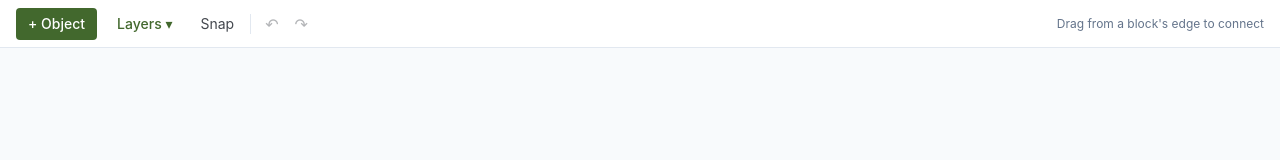
ArchitectureCanvas › layers popover › stays open when clicking inside the panel
The width and height of the screenshot is (1280, 160).
Click the button "Layers ▾".
click(145, 24)  # box 105,8 -> 184,40
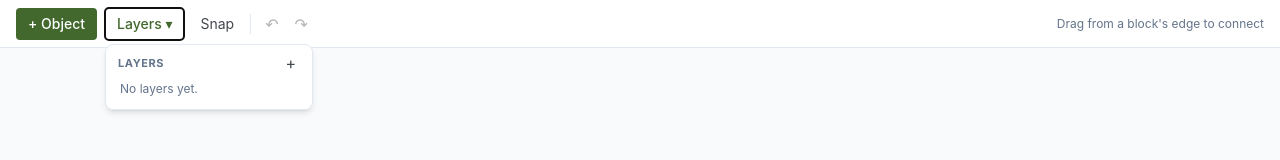
Click the button named "New layer".
click(291, 62)  # box 282,54 -> 300,70
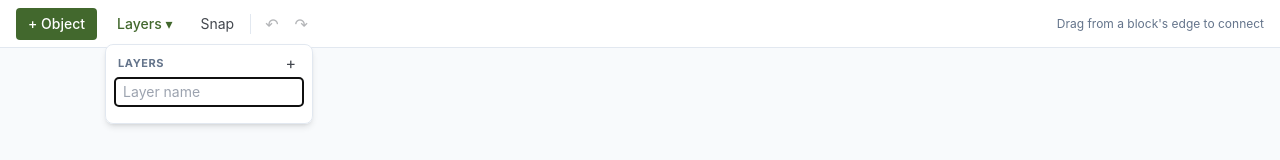
Now the text "No layers yet" is gone
Now the field with placeholder "Layer name" is shown, box 114,76 -> 304,106
